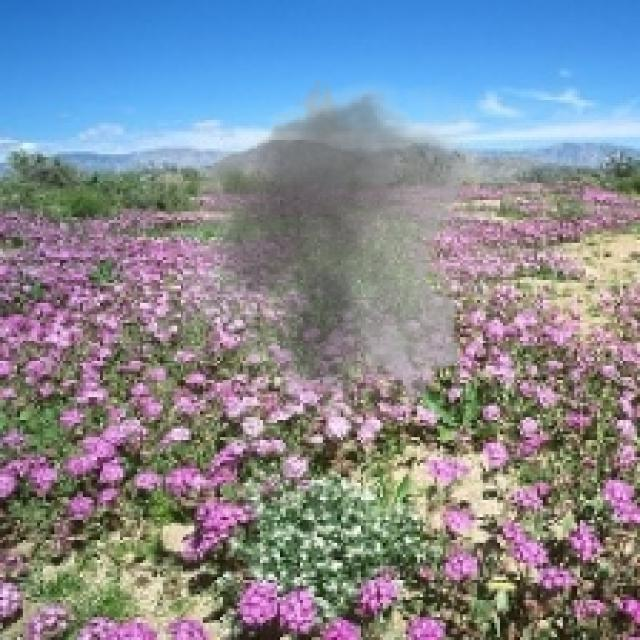smoke: (157, 66, 537, 423)
